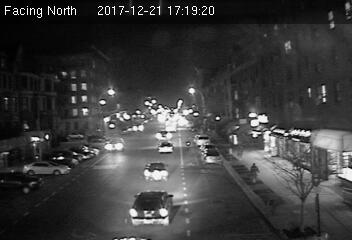car: (129, 190, 174, 225), (143, 162, 169, 183), (104, 137, 126, 151), (157, 140, 174, 155), (203, 151, 220, 165)
pedestrian: (248, 162, 262, 185)
